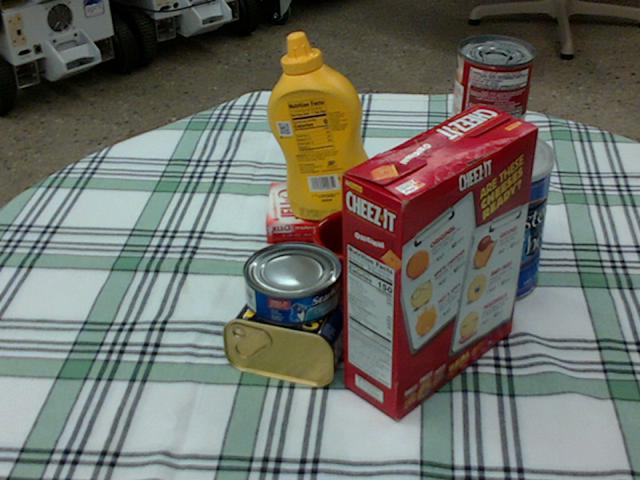cracker_box: (342, 105, 539, 420)
gelatin_box: (265, 183, 334, 244)
master_chef_can: (435, 127, 554, 303)
mug: (312, 209, 432, 327)
mustard_bottle: (266, 33, 379, 219)
potted_meat_can: (225, 273, 362, 385)
sugar_box: (345, 153, 464, 272)
tomato_soup_can: (447, 36, 533, 170)
tuna_fish_can: (243, 241, 341, 325)
